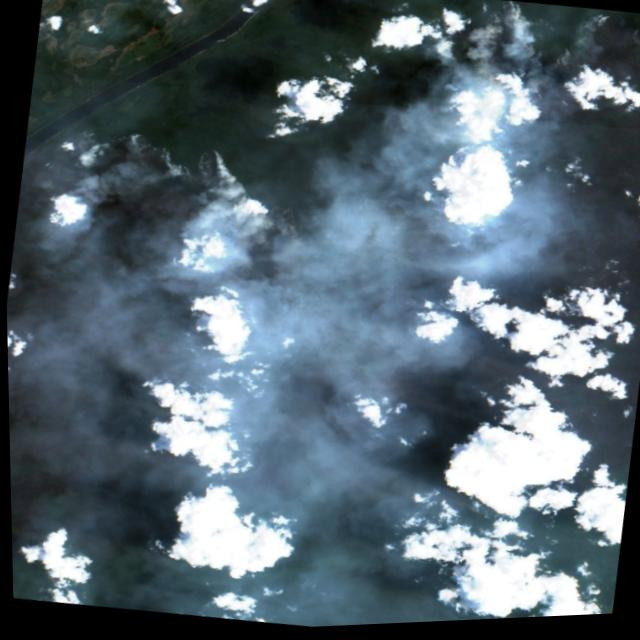fire: (382, 0, 640, 145), (44, 122, 314, 241)
